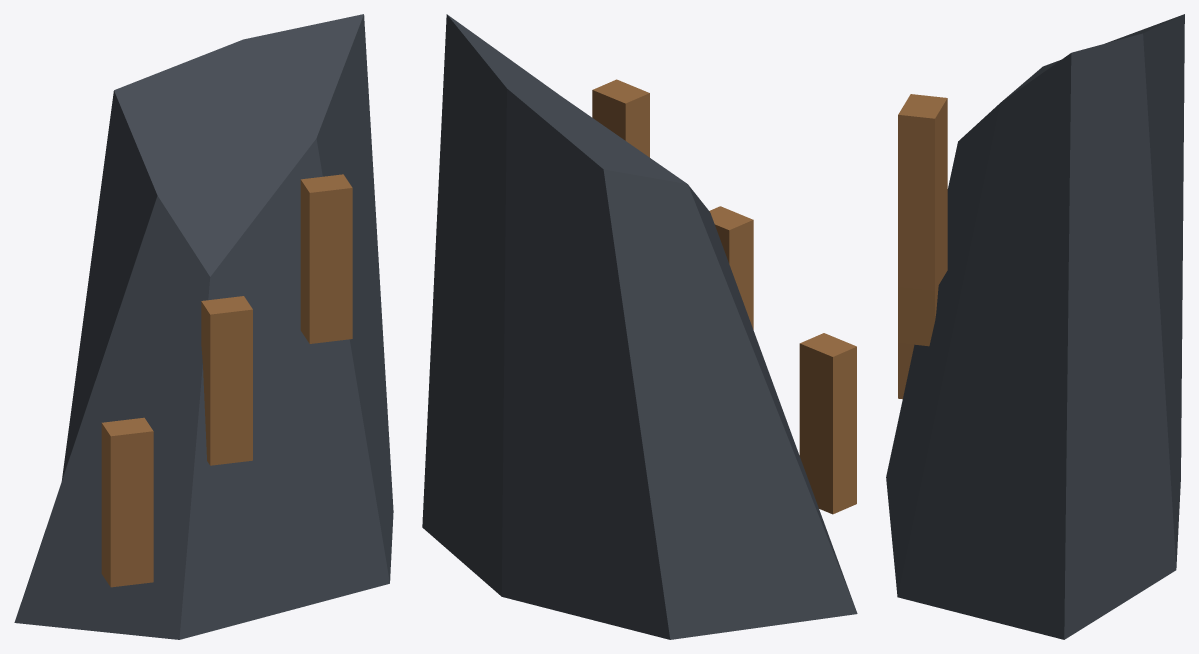
Rendered from map-boundaries-v5__iron_06.glb.
3 views of the same model, side by side, from view 1: azimuth 30°, elevation 25°; view 2: azimuth 150°, elevation 25°; view 3: azimuth 270°, elevation 25° (orthographic). The views are drawn at different scales.
Visible parts, largest first — view 1: iron_06; view 2: iron_06; view 3: iron_06.
Part boxes in pixels (x1=…): iron_06: x1=14, y1=14, x2=393, y2=639; iron_06: x1=422, y1=14, x2=857, y2=639; iron_06: x1=886, y1=14, x2=1184, y2=639.
Bounding box in the file's own units: 1.24 × 1.49 × 0.7067.
